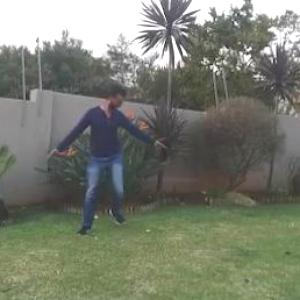land: (42, 72, 187, 250)
